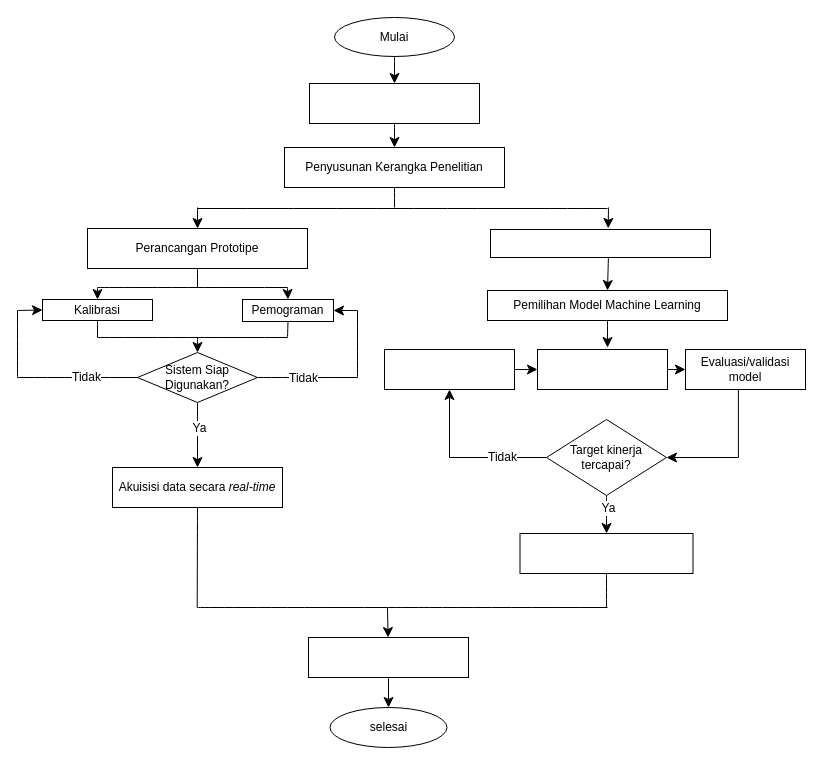
The diagram is 823 pixels wide and 765 high, and some of its shapes have lost their labels. The centre of each missing label's shape, as x and y in pixels:
Evaluasi Sistem: the point at 388,657
Implementasi Model: the point at 606,553
Optimasi model: the point at 449,369
Pengumpulan data: the point at 600,243
Studi Pendahuluan: the point at 394,103
Training model: the point at 602,369
